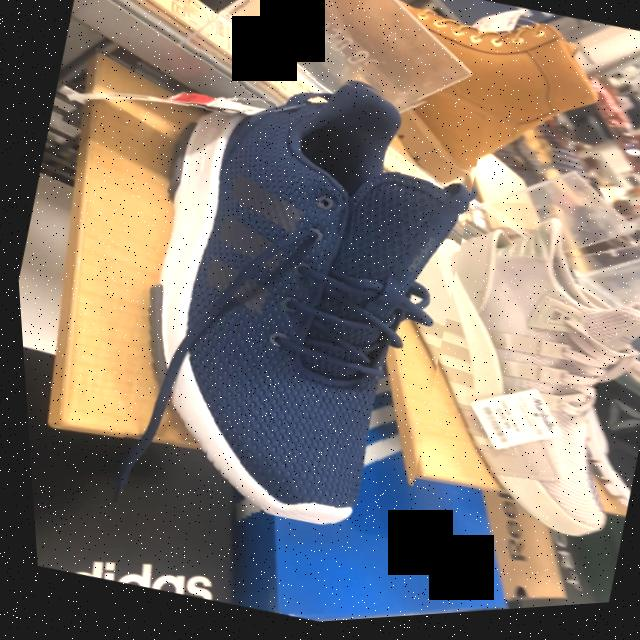shoe: (119, 89, 466, 530)
